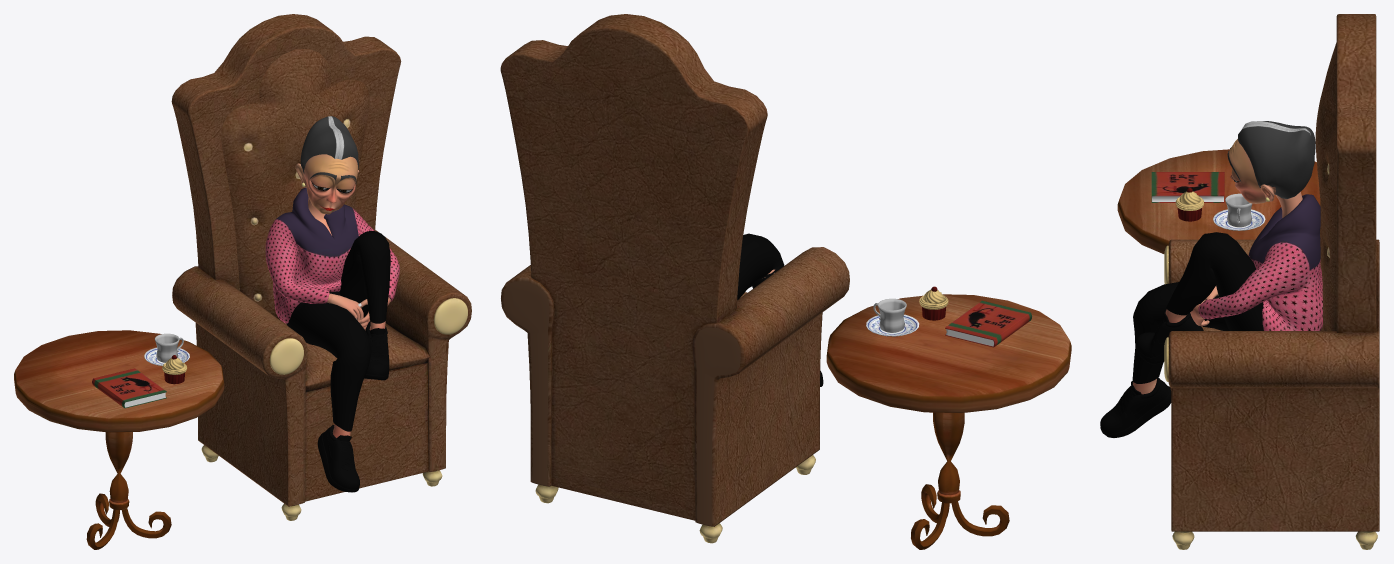
Rendered from ladyy-transformed.glb.
The picture shows the model from 3 angles, left to right: view 1: azimuth 30°, elevation 25°; view 2: azimuth 150°, elevation 25°; view 3: azimuth 270°, elevation 25°; orthographic projection. The views are drawn at different scales.
Parts seen in each view (by area): view 1: sofa_sofa2_0, asset1_table1_0, pant_geo_Female_Sitting_Pose:cloth1_0, jacket_geo_Female_Sitting_Pose:cloth1_0, body_geo_face_0, group1_shoe1_0, earring1_eye_0, asset3_asset_0; view 2: sofa_sofa2_0, asset1_table1_0, pant_geo_Female_Sitting_Pose:cloth1_0, asset3_asset_0; view 3: sofa_sofa2_0, asset1_table1_0, jacket_geo_Female_Sitting_Pose:cloth1_0, pant_geo_Female_Sitting_Pose:cloth1_0, earring1_eye_0, group1_shoe1_0, body_geo_face_0, asset3_asset_0.
Part boxes in pixels (bbox=[...]): sofa_sofa2_0: bbox=[171, 14, 471, 520]; asset1_table1_0: bbox=[14, 330, 224, 549]; pant_geo_Female_Sitting_Pose:cloth1_0: bbox=[286, 230, 390, 431]; jacket_geo_Female_Sitting_Pose:cloth1_0: bbox=[265, 187, 399, 323]; body_geo_face_0: bbox=[295, 154, 390, 437]; group1_shoe1_0: bbox=[317, 321, 389, 492]; earring1_eye_0: bbox=[300, 116, 358, 193]; asset3_asset_0: bbox=[154, 333, 183, 362]; sofa_sofa2_0: bbox=[500, 14, 849, 543]; asset1_table1_0: bbox=[826, 286, 1071, 549]; pant_geo_Female_Sitting_Pose:cloth1_0: bbox=[737, 233, 784, 299]; asset3_asset_0: bbox=[873, 298, 906, 332]; sofa_sofa2_0: bbox=[1164, 14, 1379, 549]; asset1_table1_0: bbox=[1117, 149, 1320, 253]; jacket_geo_Female_Sitting_Pose:cloth1_0: bbox=[1198, 194, 1322, 330]; pant_geo_Female_Sitting_Pose:cloth1_0: bbox=[1132, 232, 1263, 383]; earring1_eye_0: bbox=[1227, 121, 1315, 201]; group1_shoe1_0: bbox=[1100, 309, 1203, 437]; body_geo_face_0: bbox=[1133, 139, 1302, 394]; asset3_asset_0: bbox=[1225, 193, 1252, 227].
Size of the model in its own units: 0.2306 by 0.2245 by 0.1169.
Materials: 6 (5 with a texture image).
